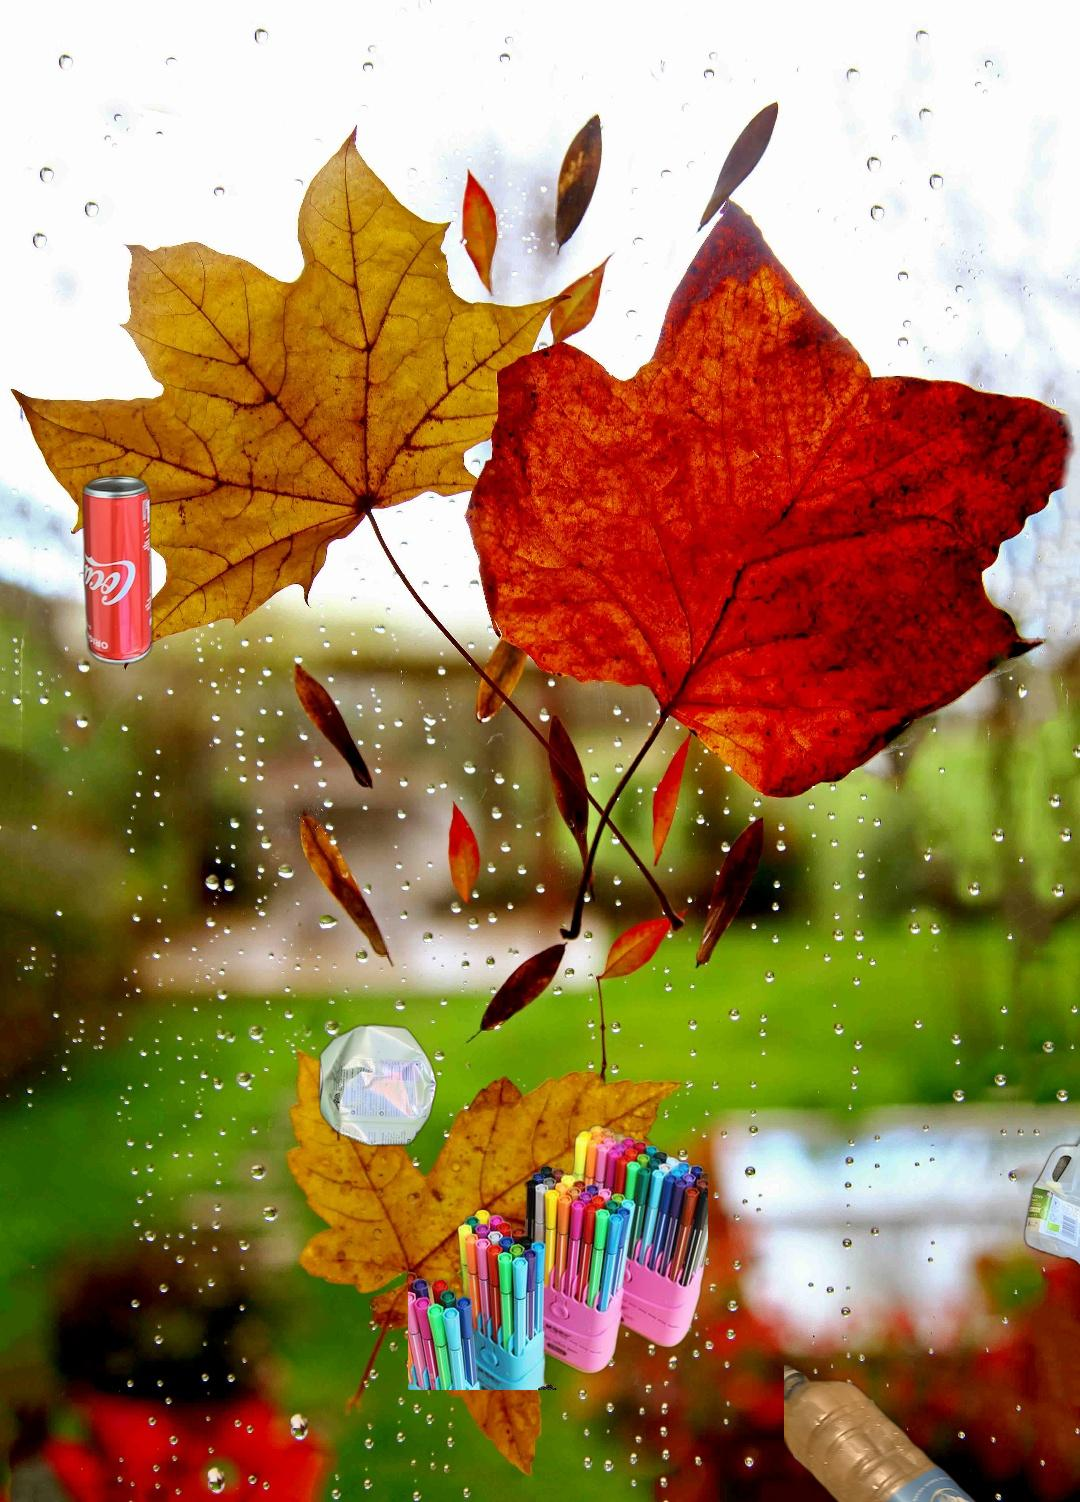metal-cans: (78, 118, 286, 669), (315, 1019, 441, 1152)
penholder: (408, 1122, 708, 1390)
plastic-bottles: (784, 1359, 1066, 1502), (1021, 1125, 1080, 1284)
